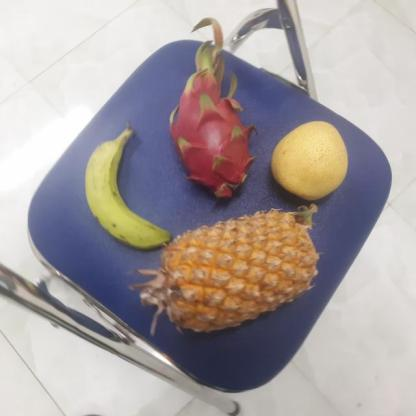banana: (83, 126, 168, 248)
pear: (267, 116, 348, 198)
pineapple: (142, 210, 315, 332)
pitaya: (171, 77, 256, 200)
